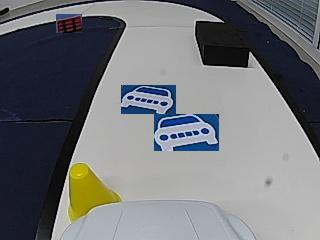block: (194, 21, 248, 66)
cone: (69, 162, 120, 202)
